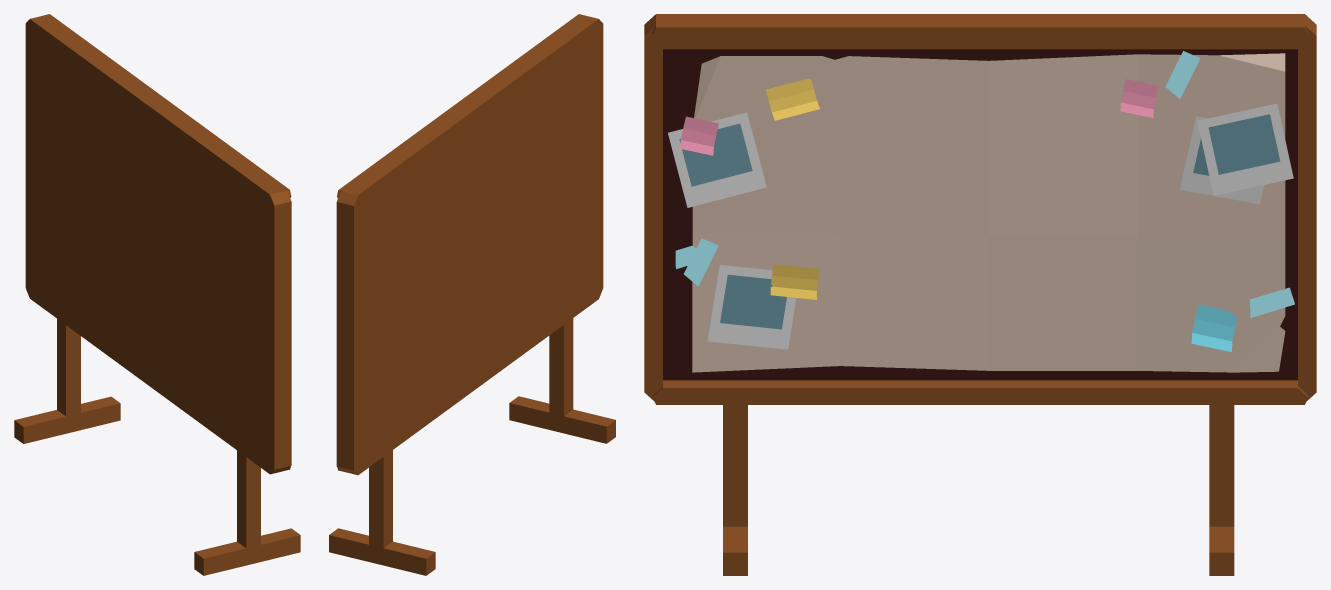
Rendered from Board.fbx.
3 views of the same model, side by side, from view 1: azimuth 30°, elevation 25°; view 2: azimuth 150°, elevation 25°; view 3: azimuth 270°, elevation 25° (orthographic). The views are drawn at different scales.
Visible parts, largest first — view 1: Board; view 2: Board; view 3: Board.
Boxes of the visible parts, x1,y1,x2,y2 form: Board: (14, 14, 300, 575); Board: (329, 14, 615, 575); Board: (644, 14, 1316, 575).
Bounding box in the file's own units: 199 × 763 × 884.
